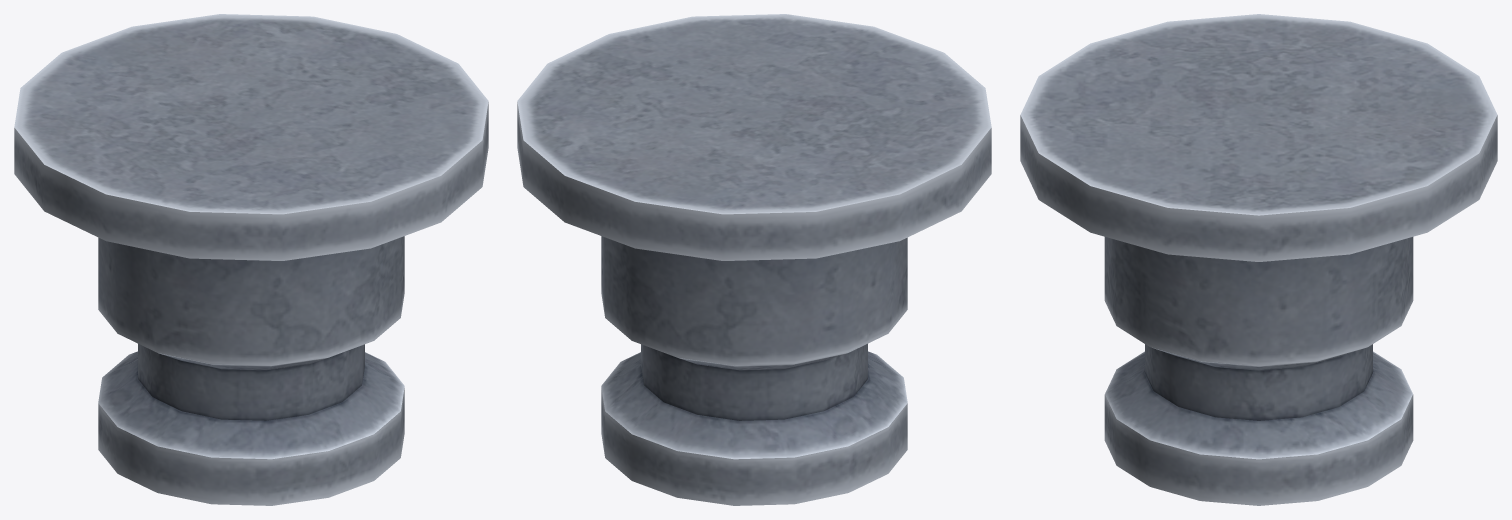
File: WackerHub_A.fbx
3 renders of one model, left to right at view 1: azimuth 30°, elevation 25°; view 2: azimuth 150°, elevation 25°; view 3: azimuth 270°, elevation 25°, orthographic.
Parts seen in each view (by area): view 1: Empty_Mesh; view 2: Empty_Mesh; view 3: Empty_Mesh.
Boxes of the visible parts, box(x1,y1,x2,y2) form: Empty_Mesh: box(14, 14, 488, 505); Empty_Mesh: box(517, 14, 991, 505); Empty_Mesh: box(1020, 14, 1497, 505).
Size of the model in its own units: 232 by 175 by 232.
